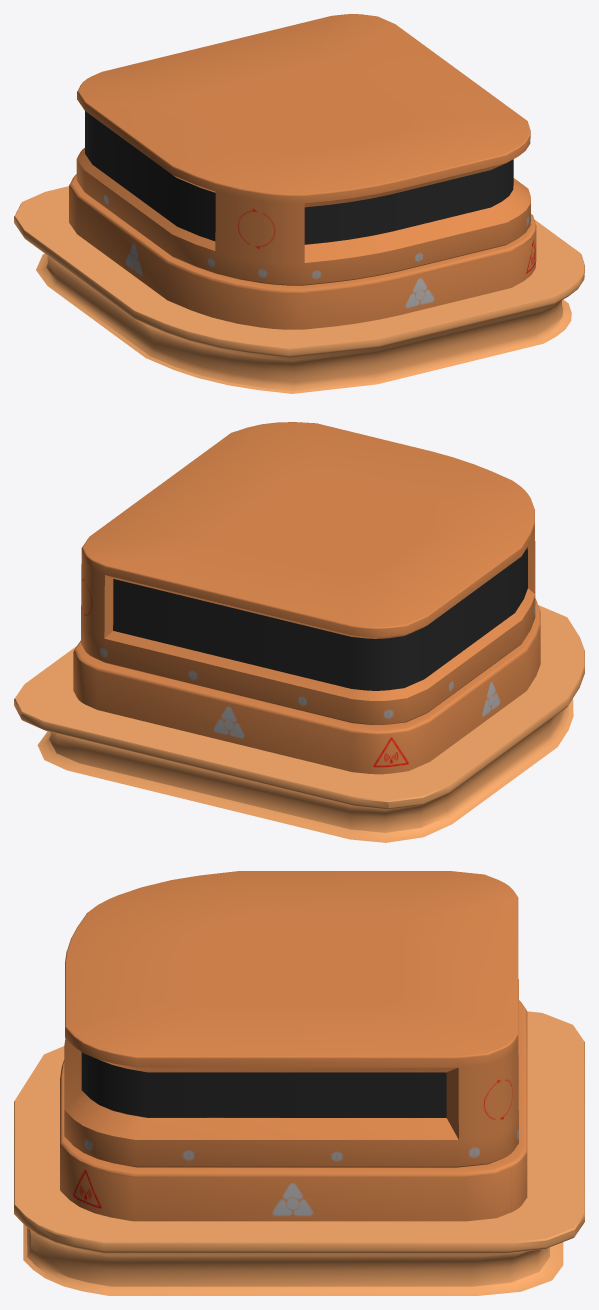
3 renders of one model, top to bottom at view 1: azimuth 30°, elevation 25°; view 2: azimuth 150°, elevation 25°; view 3: azimuth 270°, elevation 25°, orthographic. The views are drawn at different scales.
Visible parts, largest first — view 1: Плоскость; view 2: Плоскость; view 3: Плоскость.
Boxes of the visible parts, box(x1,y1,x2,y2) form: Плоскость: box(14, 14, 584, 393); Плоскость: box(14, 422, 584, 842); Плоскость: box(14, 871, 584, 1295).
Size of the model in its own units: 583 by 257 by 600.
